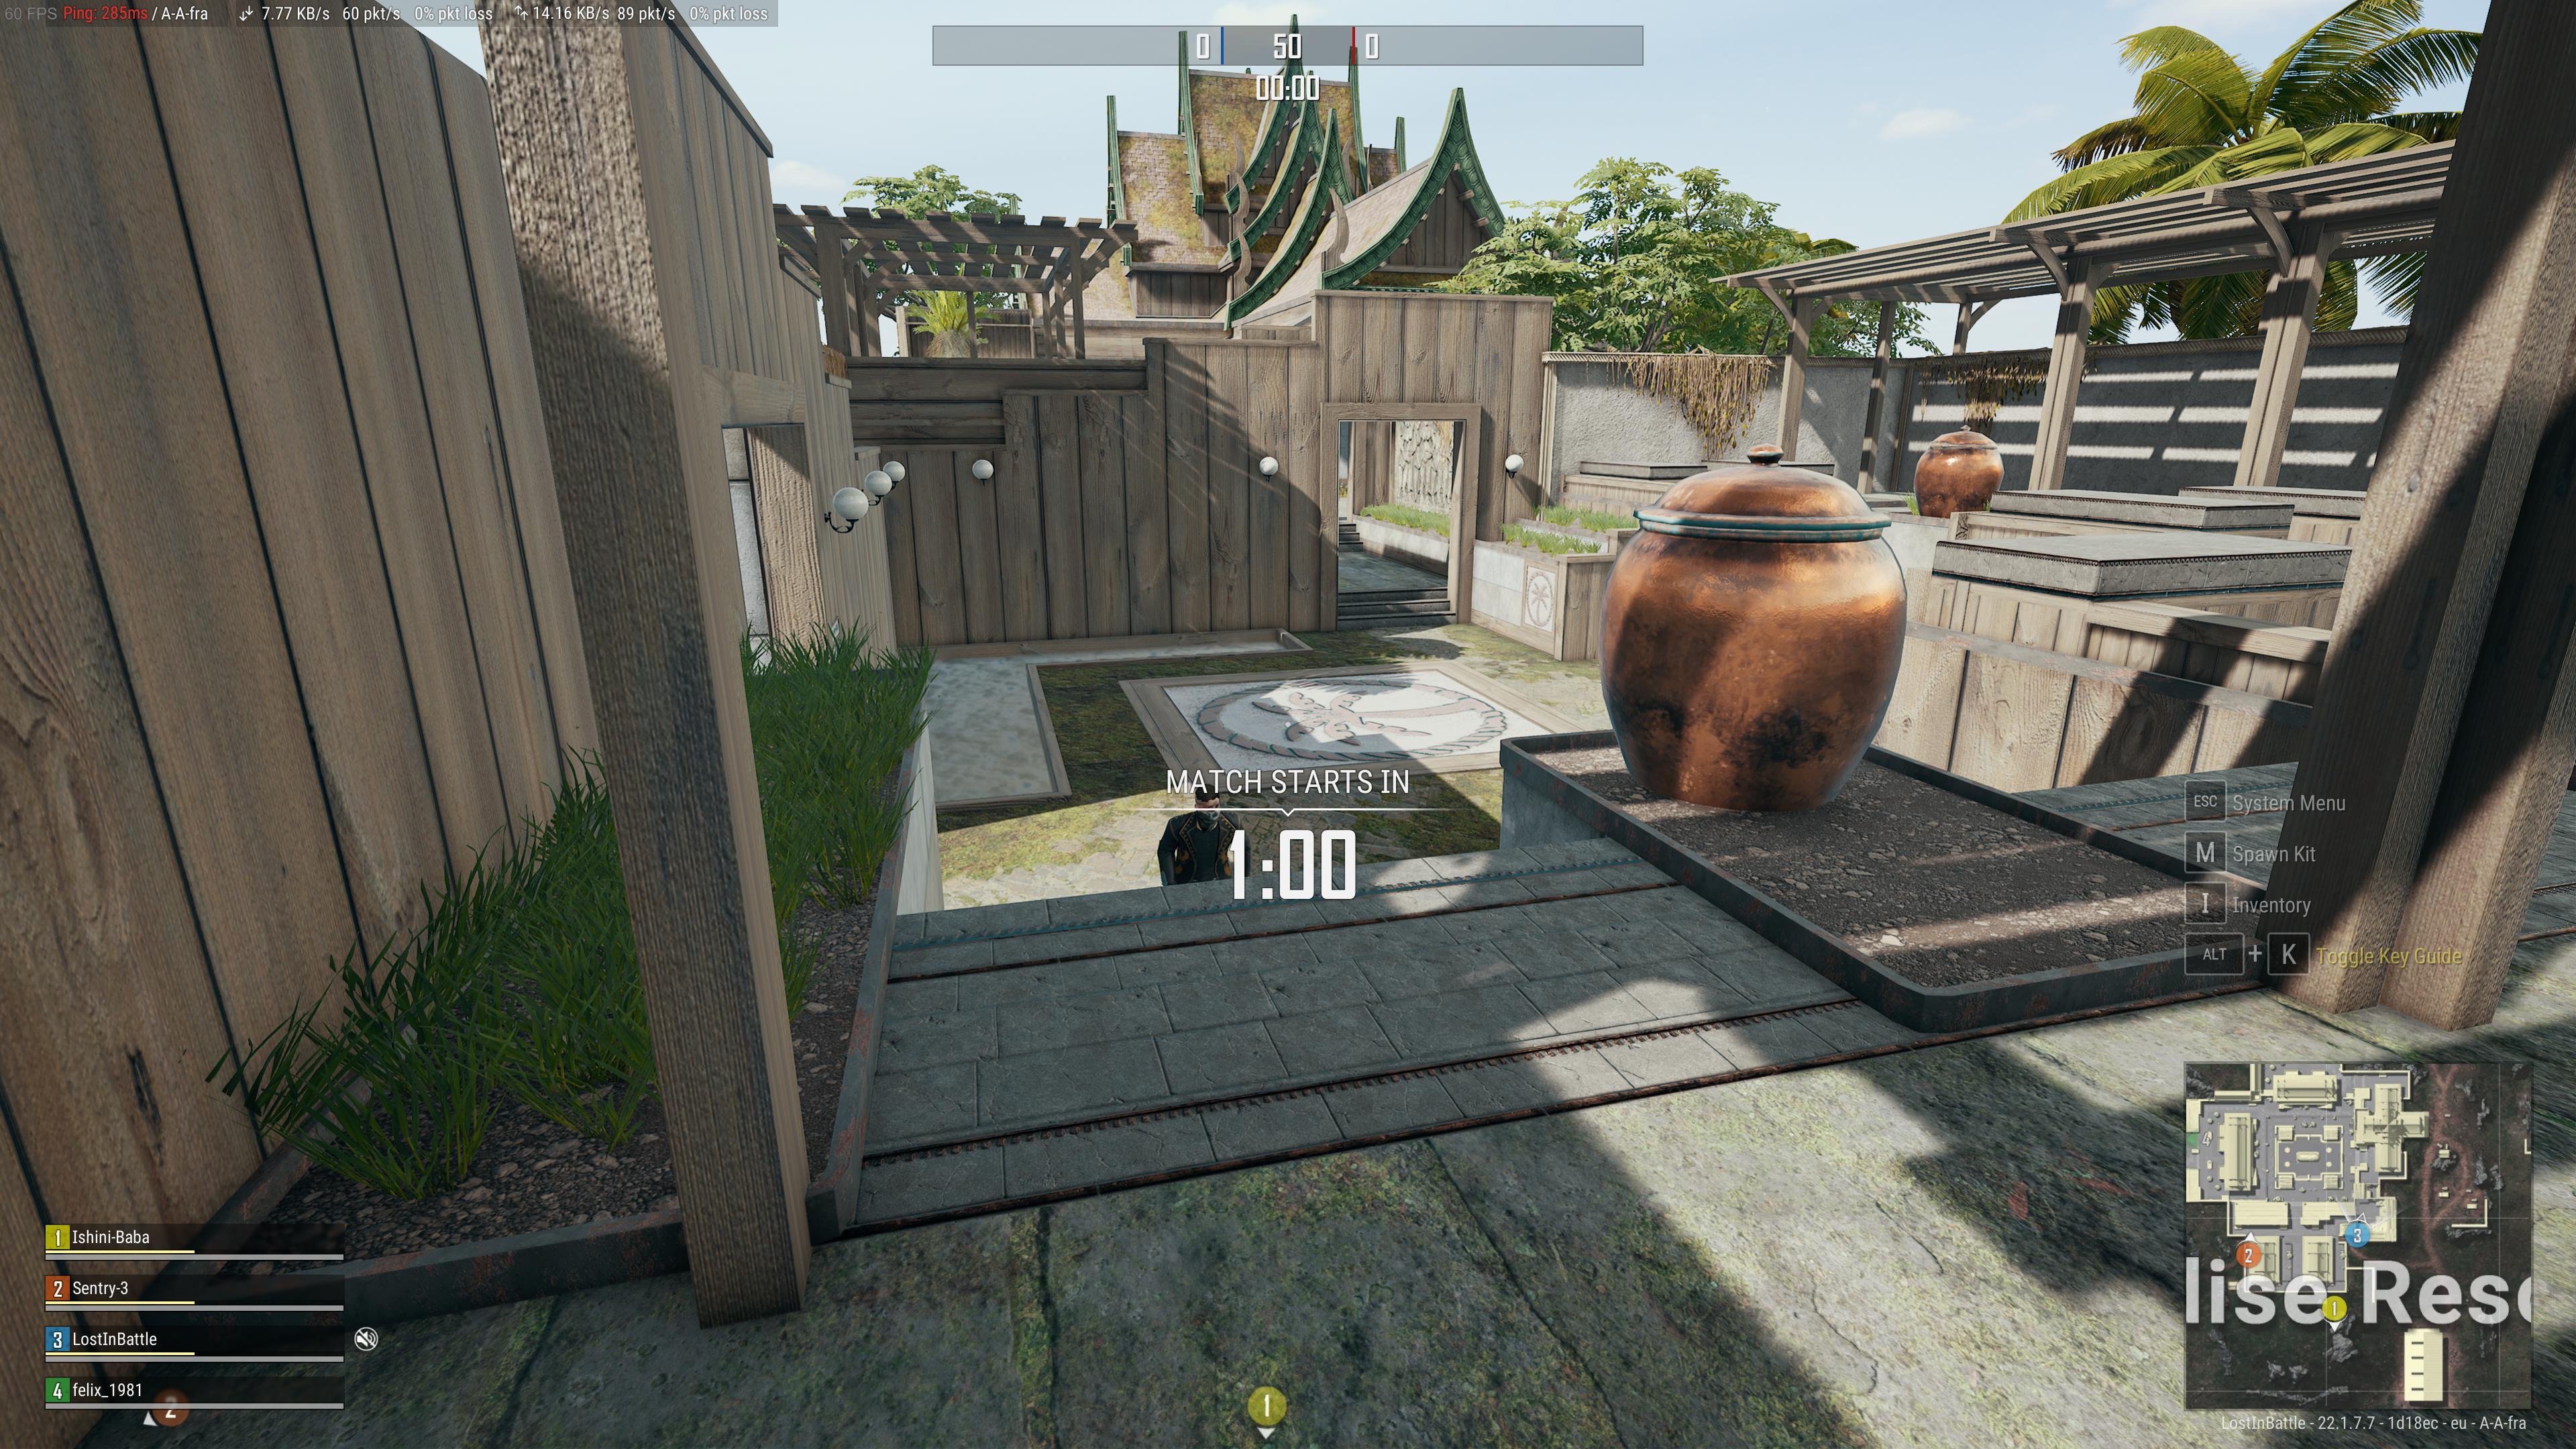enemy: (1148, 782, 1254, 881)
enemy_head: (1192, 784, 1221, 830)
